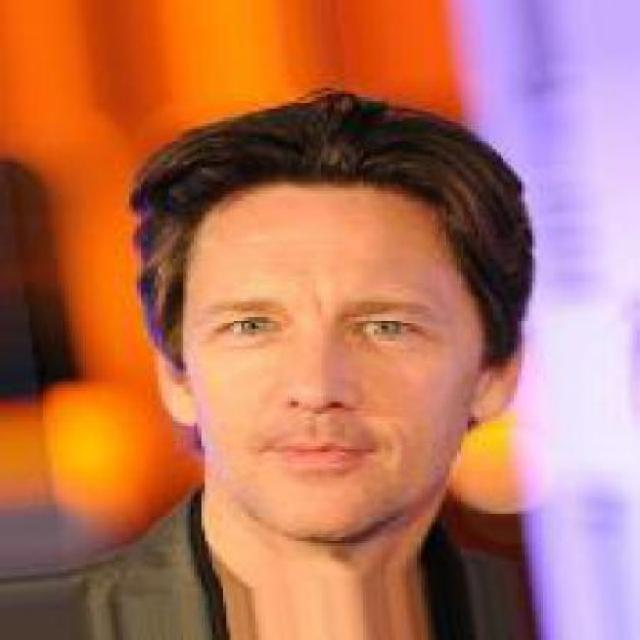closed-mouth: (252, 434, 382, 470)
